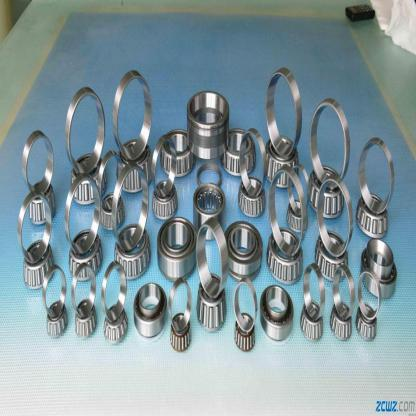FOD: (360, 233, 400, 306), (157, 216, 198, 280), (222, 219, 263, 282), (259, 278, 294, 344), (192, 180, 226, 243), (132, 282, 166, 340)
